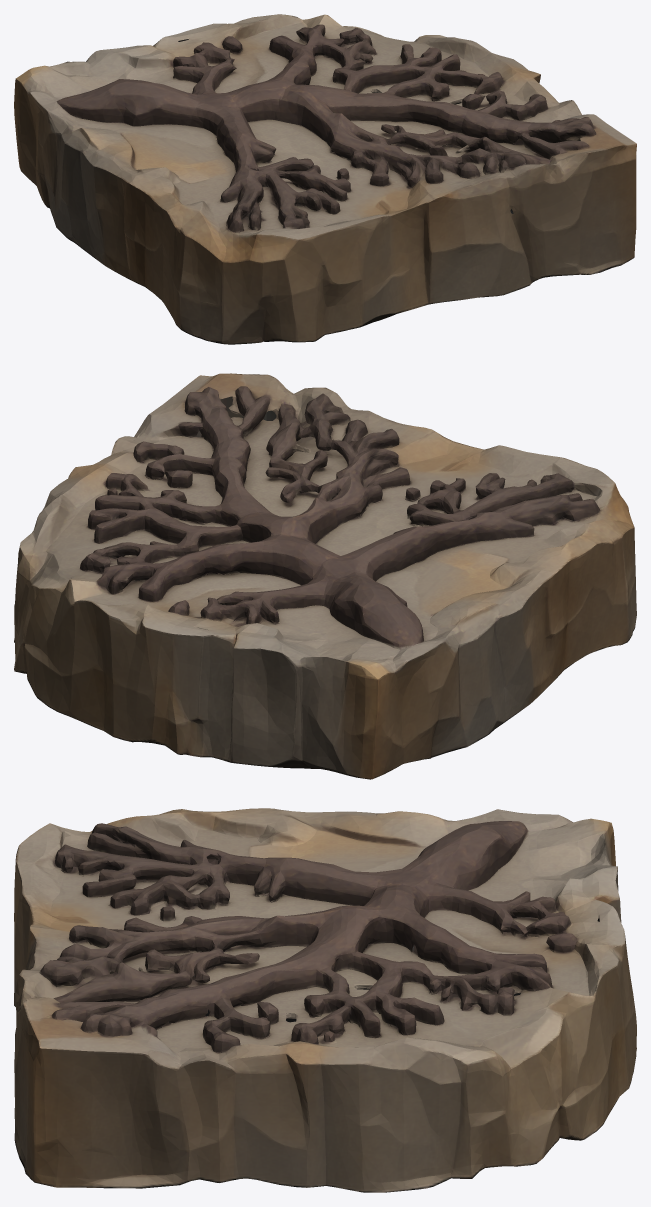
The picture shows the model from 3 angles, top to bottom: view 1: azimuth 30°, elevation 25°; view 2: azimuth 150°, elevation 25°; view 3: azimuth 270°, elevation 25°; orthographic projection. The views are drawn at different scales.
Parts seen in each view (by area): view 1: world; view 2: world; view 3: world.
Boxes of the visible parts, x1,y1,x2,y2 form: world: (14, 14, 636, 344); world: (14, 373, 636, 779); world: (14, 808, 636, 1192).
Bounding box in the file's own units: 0.9826 × 0.2795 × 0.9992.
1 material, 1 textured.
